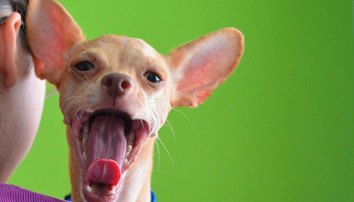chihuahua: (17, 2, 277, 197)
